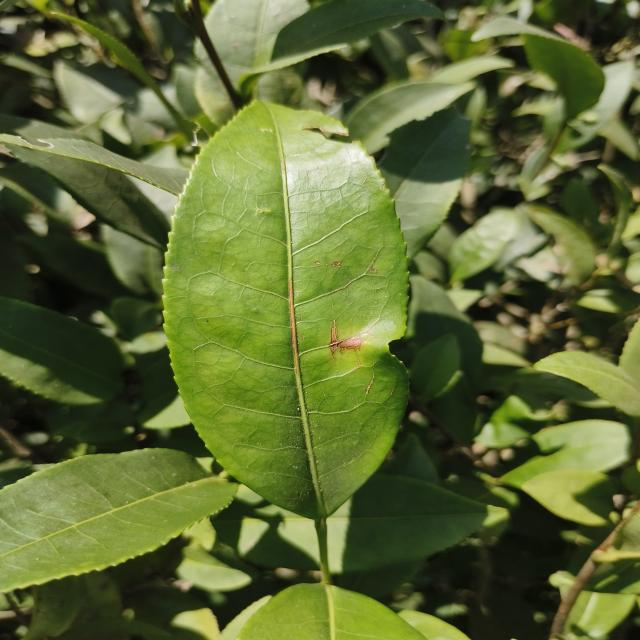Leaf: (164, 101, 408, 519), (0, 449, 232, 590), (0, 114, 170, 250), (327, 473, 489, 574), (378, 108, 471, 258), (471, 17, 605, 120), (0, 298, 122, 406), (0, 134, 189, 195), (238, 583, 424, 640), (341, 81, 474, 154), (503, 420, 631, 488), (213, 498, 320, 570), (21, 231, 126, 298), (534, 351, 640, 416), (520, 469, 614, 526), (449, 209, 519, 282), (101, 224, 166, 296), (409, 333, 461, 402), (176, 546, 252, 592), (125, 176, 177, 223), (150, 147, 177, 164)
